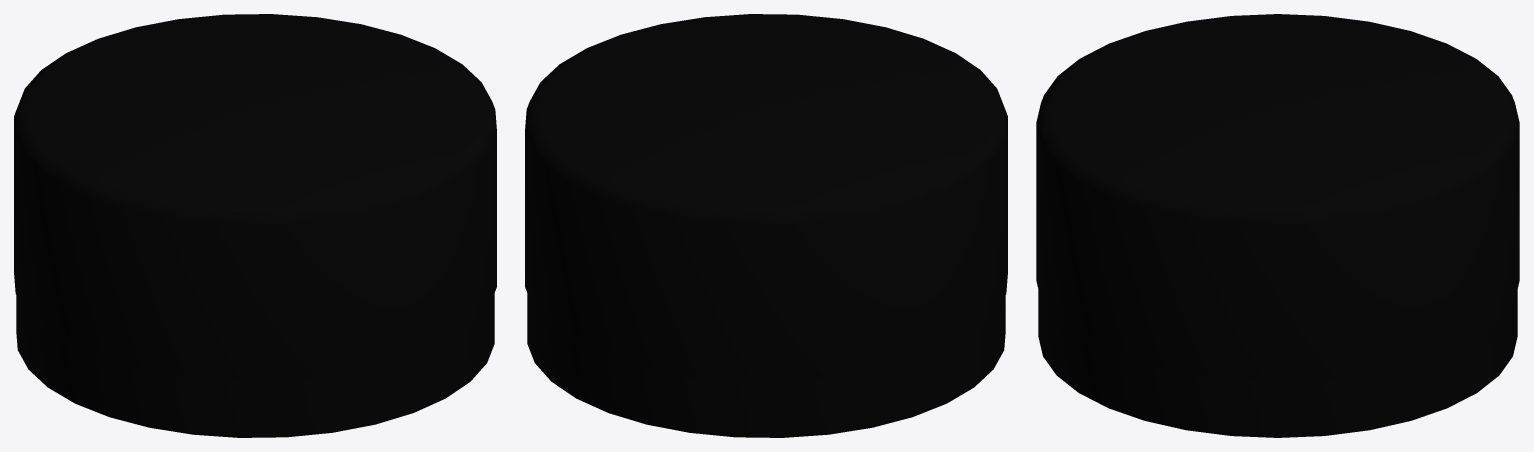
File: modelo8.glb
The picture shows the model from 3 angles, left to right: view 1: azimuth 30°, elevation 25°; view 2: azimuth 150°, elevation 25°; view 3: azimuth 270°, elevation 25°; orthographic projection.
Parts seen in each view (by area): view 1: node_id3; view 2: node_id3; view 3: node_id3.
Part boxes in pixels (x1,y1,x2,y2): node_id3: (14, 14, 496, 437); node_id3: (525, 14, 1007, 437); node_id3: (1036, 14, 1519, 437).
Size of the model in its own units: 0.512 by 0.2643 by 0.512.
1 material, 1 textured.
